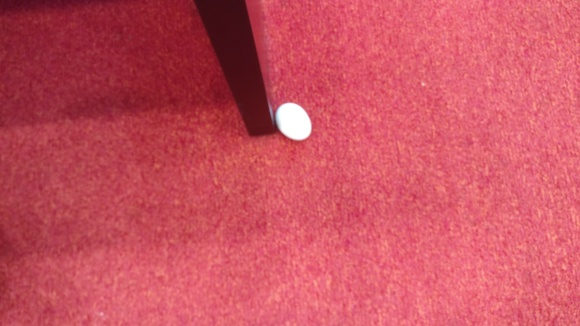egg: (274, 103, 313, 141)
